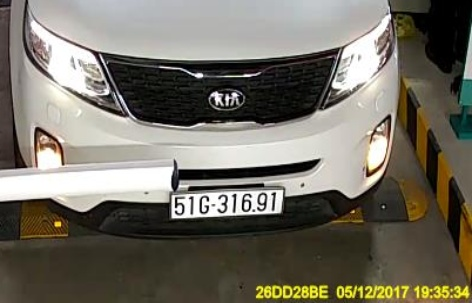plate: (170, 186, 286, 218)
